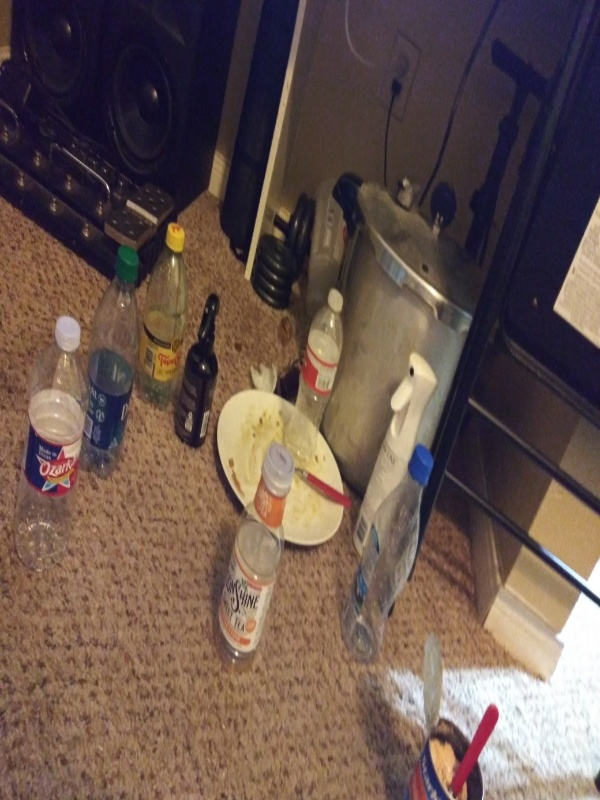bottle: (330, 444, 444, 668), (208, 442, 298, 675), (17, 316, 89, 566), (76, 239, 147, 478), (128, 216, 190, 408), (281, 283, 349, 456)
